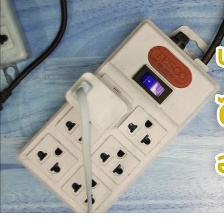three_eye_plug: (13, 14, 222, 223), (0, 0, 34, 75)
